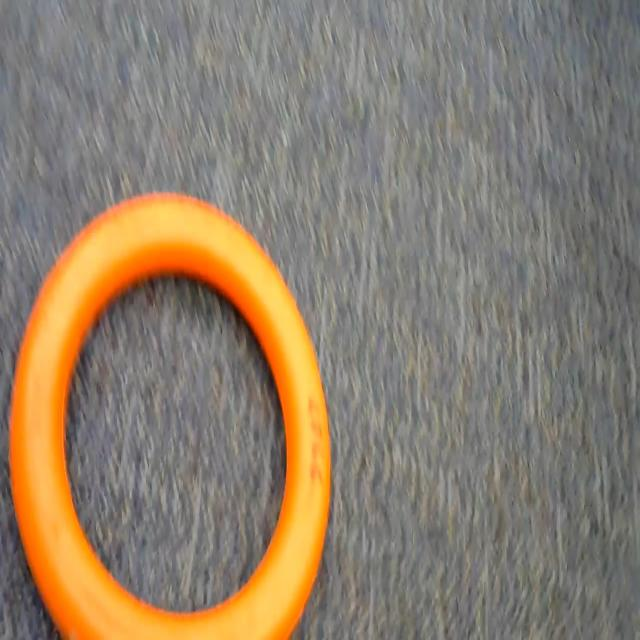note: (7, 173, 340, 640)
